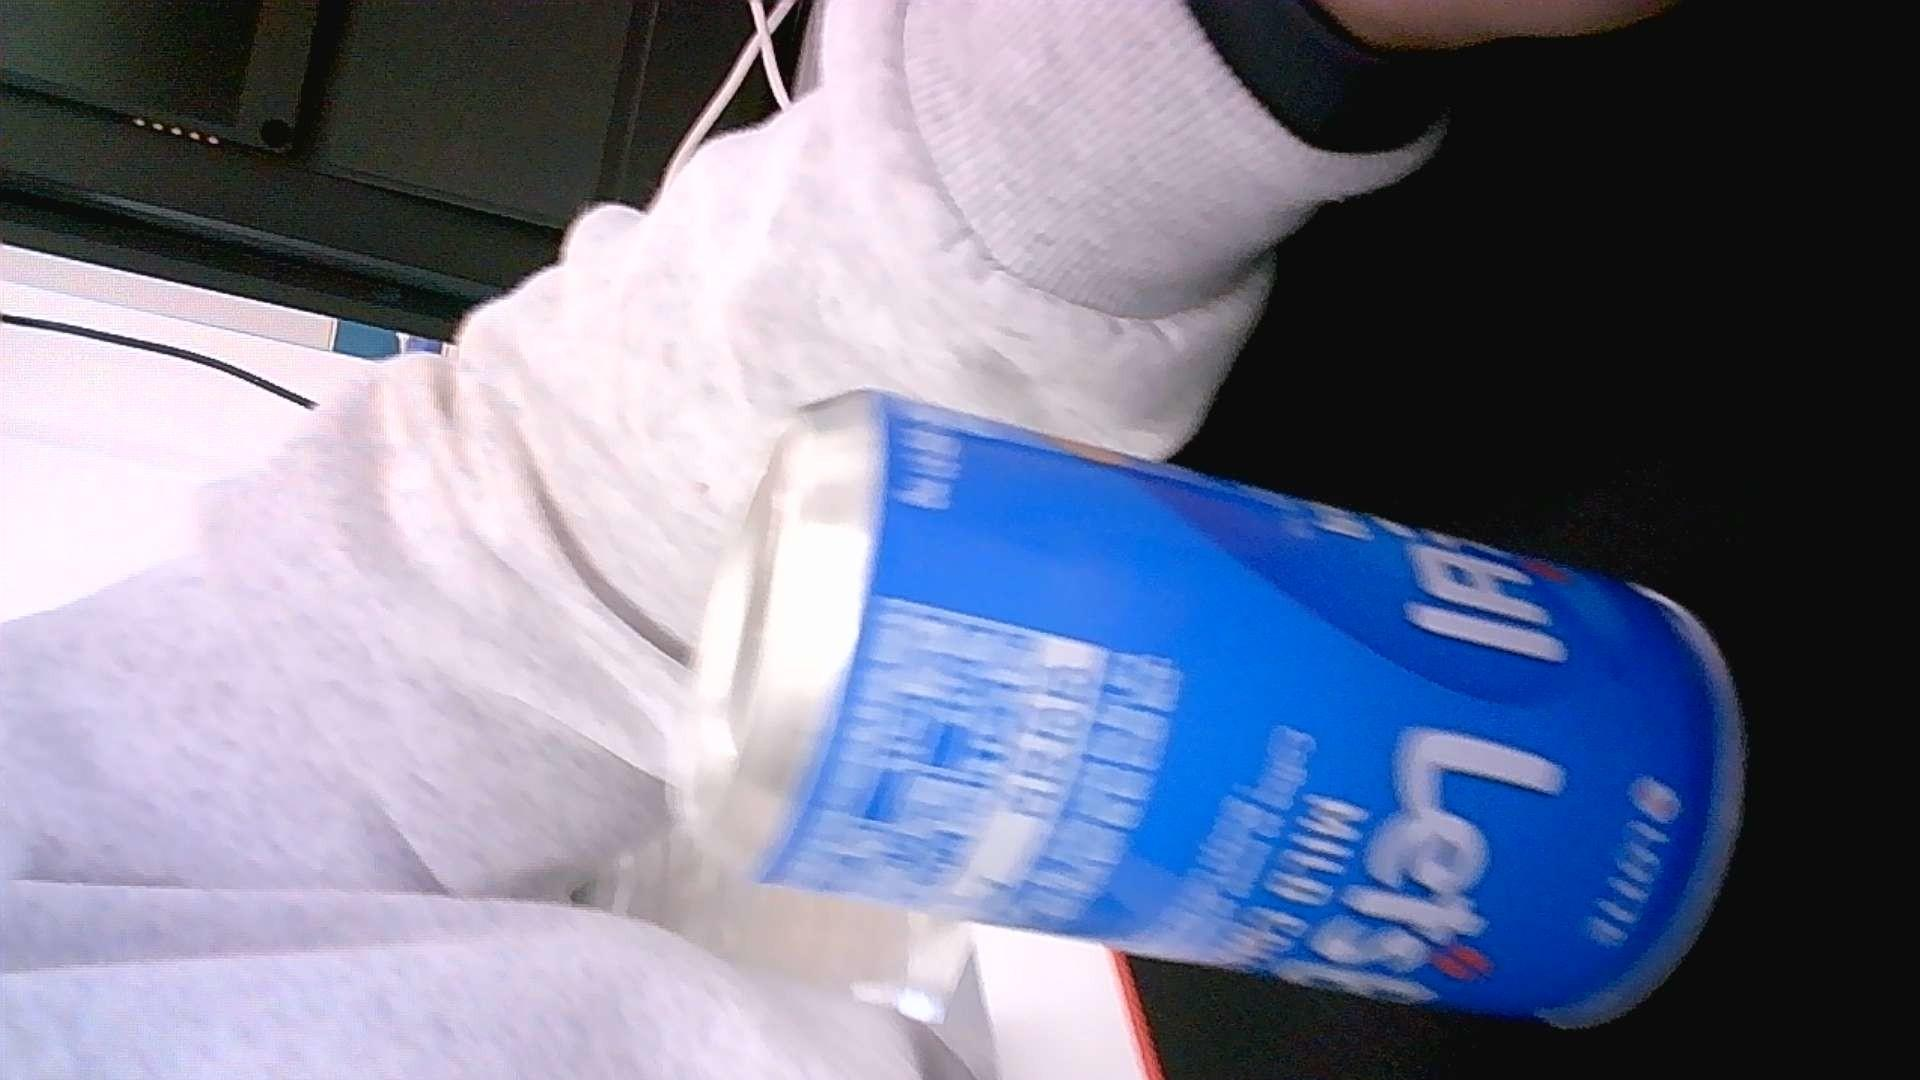letsbe: (686, 385, 1747, 1031)
